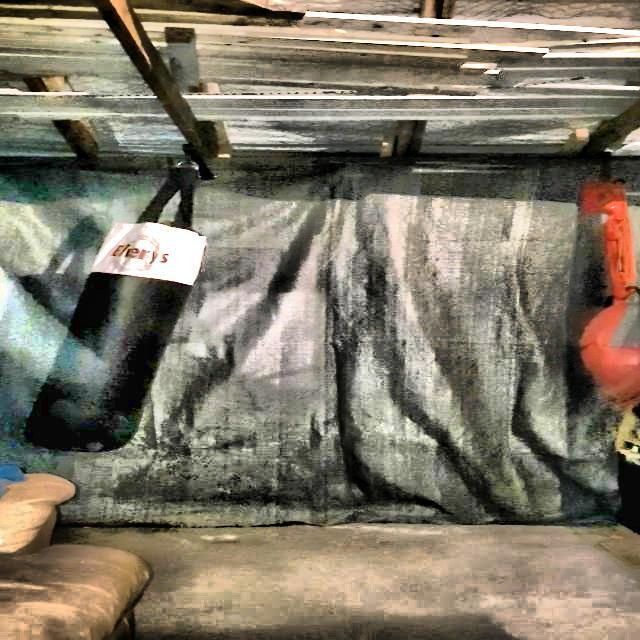boxing-bag: (18, 143, 223, 457)
